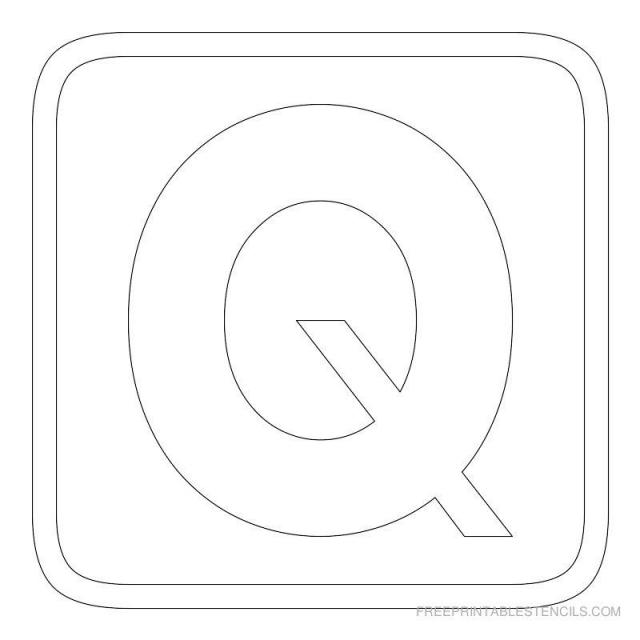Q: (82, 93, 568, 555)
